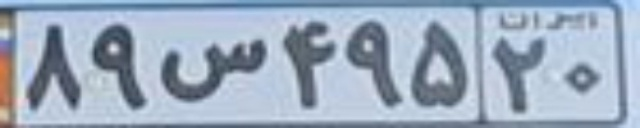0: (559, 61, 602, 94)
2: (489, 33, 546, 112)
4: (282, 19, 337, 106)
5: (407, 20, 468, 106)
8: (25, 22, 82, 111)
9: (89, 22, 145, 109), (345, 20, 402, 105)
sin: (154, 36, 270, 103)
